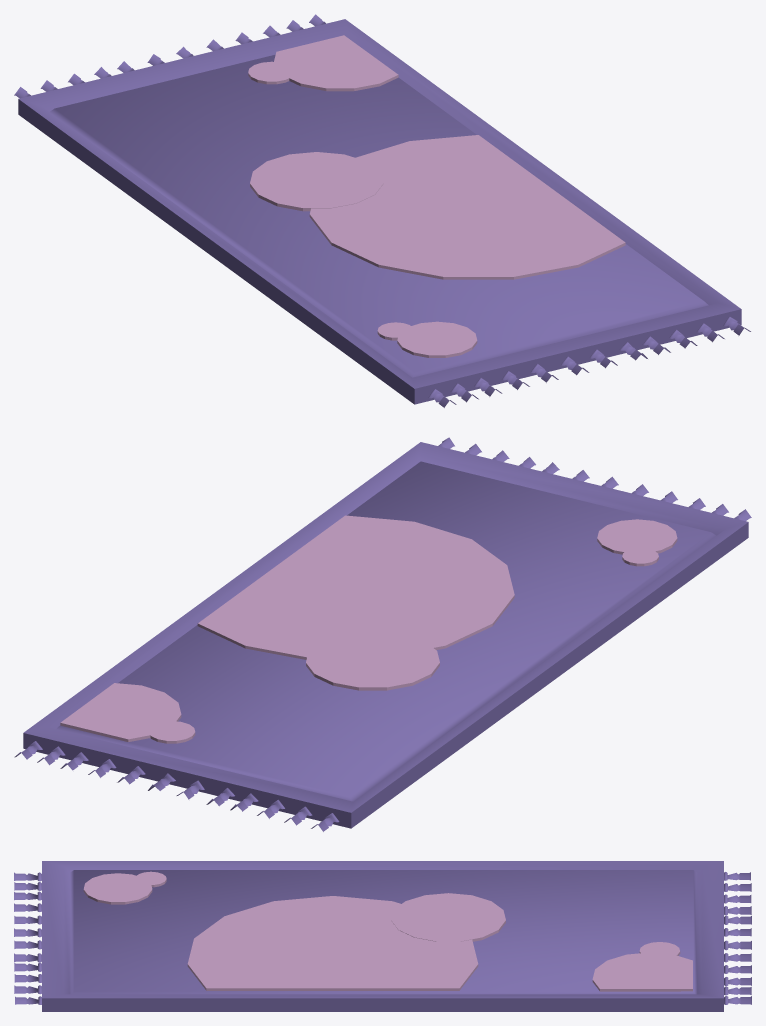
File: Tapis4.fbx
3 views of the same model, one above another, from view 1: azimuth 30°, elevation 25°; view 2: azimuth 150°, elevation 25°; view 3: azimuth 270°, elevation 25° (orthographic). The views are drawn at different scales.
Visible parts, largest first — view 1: Tapis4; view 2: Tapis4; view 3: Tapis4.
Boxes of the visible parts, x1=… form: Tapis4: x1=14, y1=14, x2=750, y2=407; Tapis4: x1=14, y1=437, x2=751, y2=831; Tapis4: x1=14, y1=861, x2=751, y2=1011.
Bounding box in the file's own units: 72.01 × 164 × 3.71.
